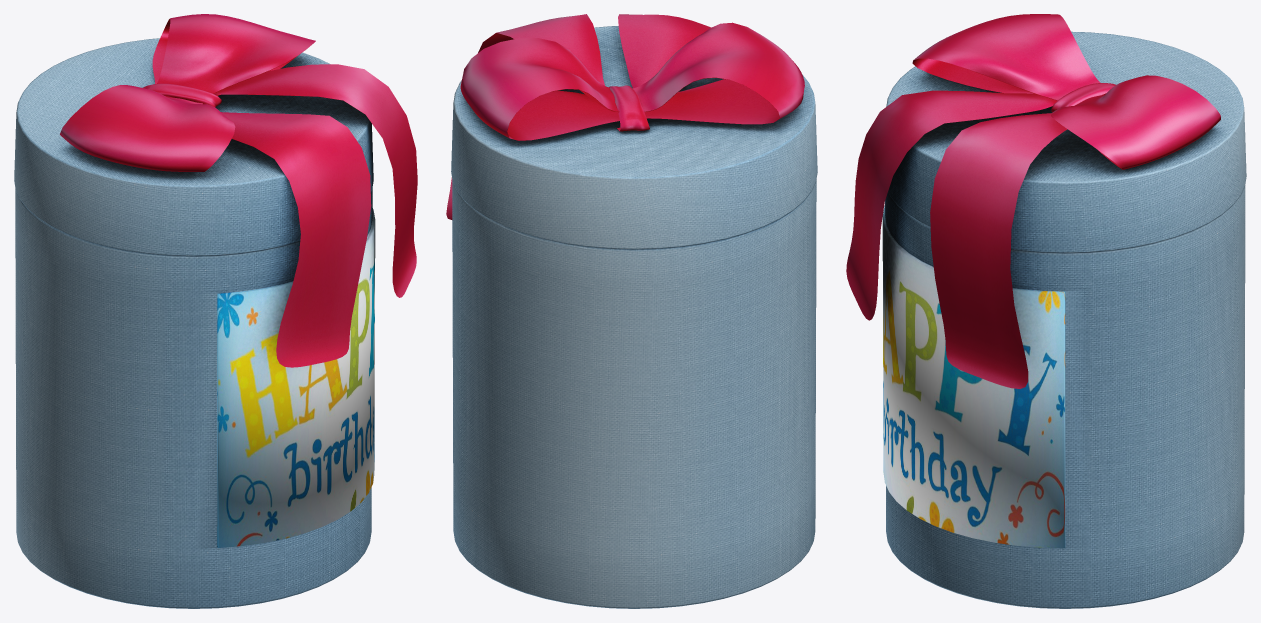
Rendered from giftbox2.dae.
3 views of the same model, side by side, from view 1: azimuth 30°, elevation 25°; view 2: azimuth 150°, elevation 25°; view 3: azimuth 270°, elevation 25° (orthographic).
Visible parts, largest first — view 1: Torus; view 2: Torus; view 3: Torus.
Boxes of the visible parts, bbox=[...] form: Torus: bbox=[14, 14, 417, 608]; Torus: bbox=[446, 14, 817, 608]; Torus: bbox=[846, 14, 1246, 608].
Bounding box in the file's own units: 60.92 × 76 × 58.37.
